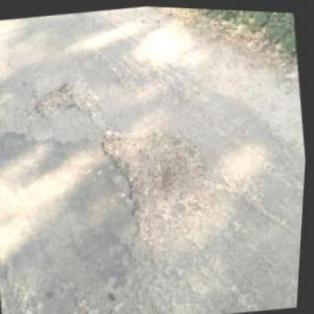Hueco: (94, 118, 222, 234), (30, 72, 100, 121)
